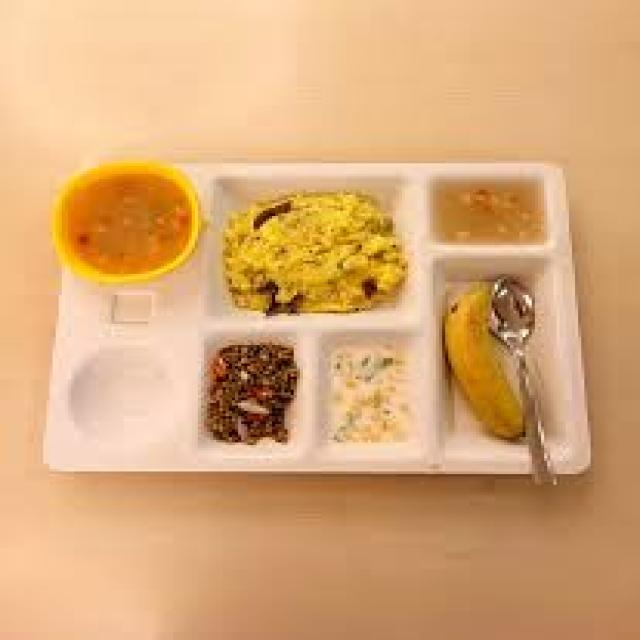POHA: (220, 190, 402, 306)
